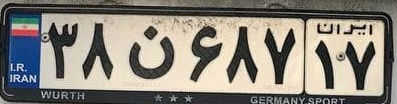character: (127, 21, 180, 87), (78, 17, 118, 87), (184, 20, 225, 86), (224, 20, 262, 88), (261, 23, 299, 90), (44, 18, 81, 84), (341, 35, 380, 94), (313, 35, 341, 92)
